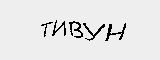В: (69, 19, 86, 42)
И: (50, 19, 70, 42)
Н: (104, 19, 127, 45)
Т: (39, 18, 50, 38)
У: (81, 19, 105, 44)
